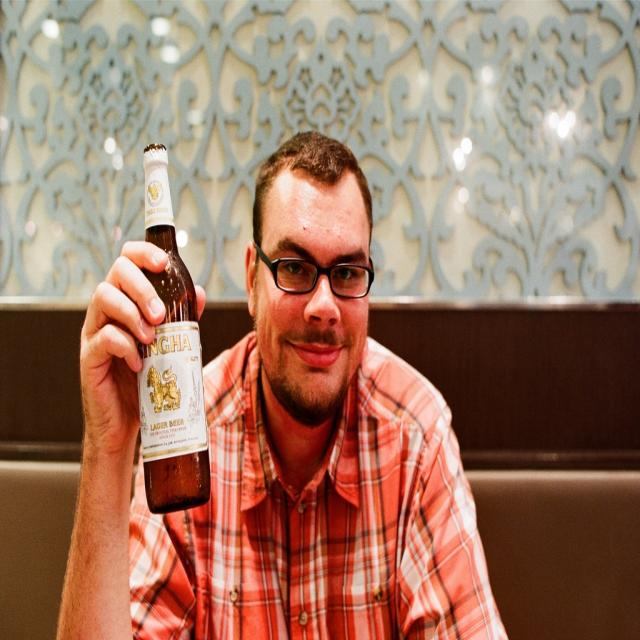singha: (138, 327, 209, 460)
